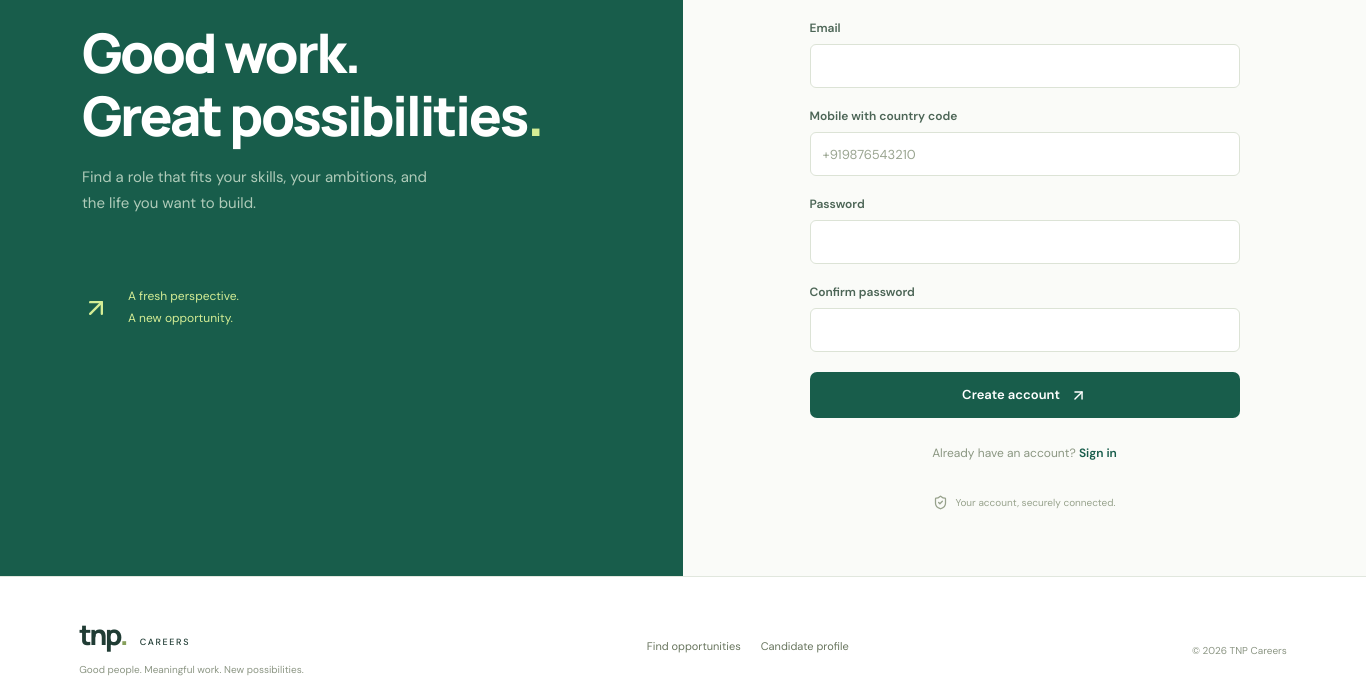
Test: all registration fields are required and show field-specific errors
(page scrolled)
Click the button "Create account" at [1024, 395], box top-left (810, 372), bottom-right (1240, 418)
(page scrolled)
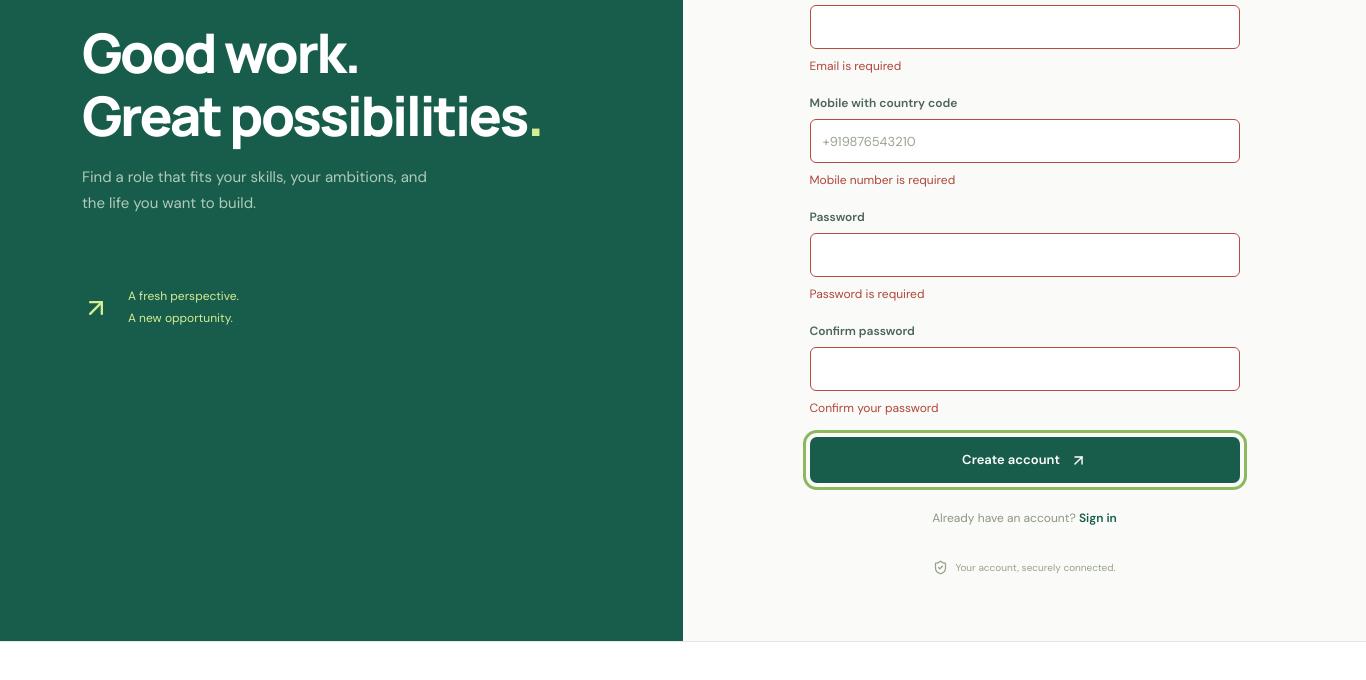
Expected: the text "Email is required" is shown, top-left (810, 58), bottom-right (901, 74)
Expected: the text "Mobile number is required" is shown, top-left (810, 172), bottom-right (955, 188)
Expected: the text "Password is required" is shown, top-left (810, 286), bottom-right (924, 302)
